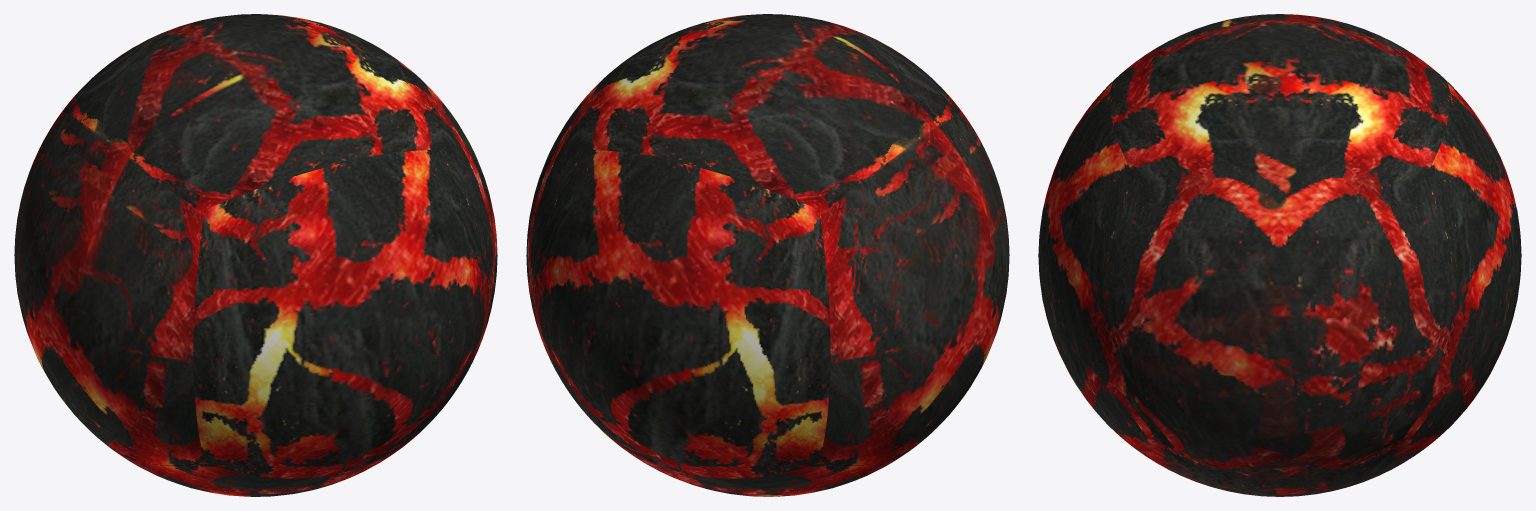
The model's file is Fire_planet_1.FBX.
The picture shows the model from 3 angles, left to right: view 1: azimuth 30°, elevation 25°; view 2: azimuth 150°, elevation 25°; view 3: azimuth 270°, elevation 25°; orthographic projection.
Parts seen in each view (by area): view 1: Fire_planet_1; view 2: Fire_planet_1; view 3: Fire_planet_1.
Part boxes in pixels (x1,y1,x2,y2): Fire_planet_1: [14, 14, 497, 496]; Fire_planet_1: [526, 14, 1009, 496]; Fire_planet_1: [1038, 14, 1521, 496].
Size of the model in its own units: 75.95 by 75.95 by 75.95.
